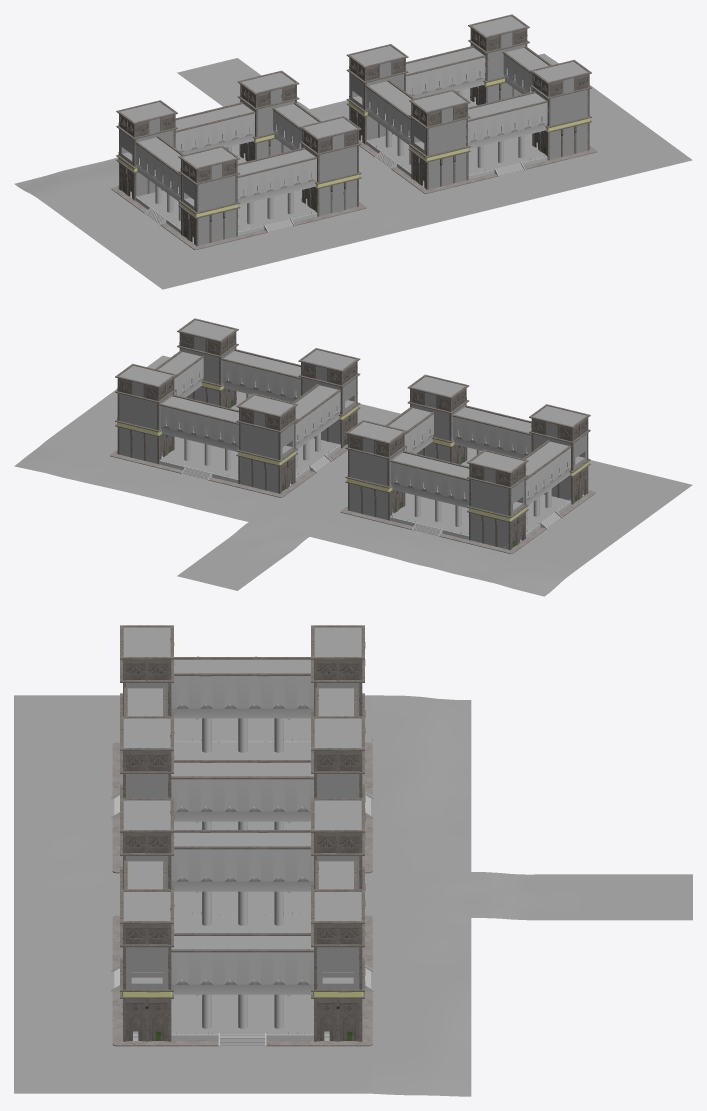
File: City_01.fbx
3 views of the same model, one above another, from view 1: azimuth 30°, elevation 25°; view 2: azimuth 150°, elevation 25°; view 3: azimuth 270°, elevation 25° (orthographic). The views are drawn at different scales.
Parts seen in each view (by area): view 1: pPlane149, pCube1874, pCube1405, pPlane234, pPlane132, pCube2011, pCube1759, pCube1963, pCube1711, pCube1919, pCube1820, pCube1667 (+23 smaller); view 2: pPlane149, pPlane234, pPlane132, pCube1760, pCube2012, pCube1406, pCube1875, pCube1963, pCube1711, pCube1965, pCube2017, pCube1765 (+22 smaller); view 3: pPlane149, pPlane234, pCube1864, pCube1962, pCube1710, pCube1391, pPlane132, pPlane208, pPlane184, pPlane257, pPlane243, pCube1966 (+22 smaller).
Part boxes in pixels (x1=…): pPlane149: x1=14, y1=53, x2=692, y2=289; pCube1874: x1=468, y1=102, x2=547, y2=148; pCube1405: x1=237, y1=159, x2=316, y2=205; pPlane234: x1=367, y1=100, x2=546, y2=175; pPlane132: x1=136, y1=157, x2=316, y2=231; pCube2011: x1=406, y1=57, x2=485, y2=98; pCube1759: x1=175, y1=113, x2=254, y2=154; pCube1963: x1=366, y1=87, x2=411, y2=144; pCube1711: x1=136, y1=144, x2=180, y2=200; pCube1919: x1=428, y1=119, x2=466, y2=155; pCube1820: x1=550, y1=89, x2=587, y2=125; pCube1667: x1=198, y1=175, x2=235, y2=211; pPlane149: x1=14, y1=355, x2=692, y2=596; pPlane234: x1=160, y1=404, x2=339, y2=479; pPlane132: x1=390, y1=461, x2=570, y2=535; pCube1760: x1=390, y1=462, x2=469, y2=508; pCube2012: x1=160, y1=405, x2=238, y2=451; pCube1406: x1=452, y1=416, x2=531, y2=458; pCube1875: x1=222, y1=360, x2=300, y2=402; pCube1963: x1=295, y1=391, x2=340, y2=448; pCube1711: x1=526, y1=448, x2=570, y2=504; pCube1965: x1=119, y1=393, x2=156, y2=429; pCube2017: x1=241, y1=423, x2=278, y2=459; pCube1765: x1=471, y1=479, x2=508, y2=515; pPlane149: x1=14, y1=695, x2=692, y2=1096; pPlane234: x1=171, y1=915, x2=313, y2=1034; pCube1864: x1=171, y1=952, x2=313, y2=994; pCube1962: x1=171, y1=849, x2=313, y2=891; pCube1710: x1=171, y1=676, x2=313, y2=718; pCube1391: x1=171, y1=779, x2=313, y2=821; pPlane132: x1=174, y1=742, x2=310, y2=829; pPlane208: x1=174, y1=659, x2=310, y2=673; pPlane184: x1=171, y1=762, x2=313, y2=776; pPlane257: x1=174, y1=832, x2=310, y2=846; pPlane243: x1=171, y1=936, x2=313, y2=949; pCube1966: x1=317, y1=947, x2=359, y2=989.
Bounding box in the file's own units: 195 × 28.77 × 141.
